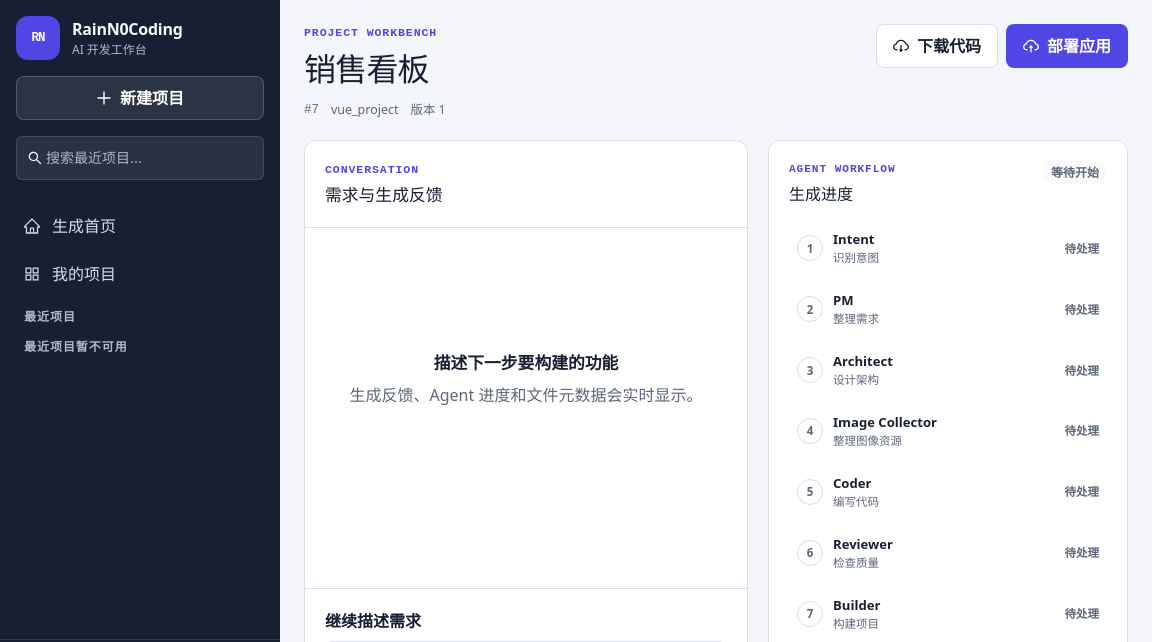
Test case: ChatDetail › shows a JSON business error instead of downloading an HTTP 200 response
Click the button "下载代码". click: (937, 46)
box: [876,24,998,68]
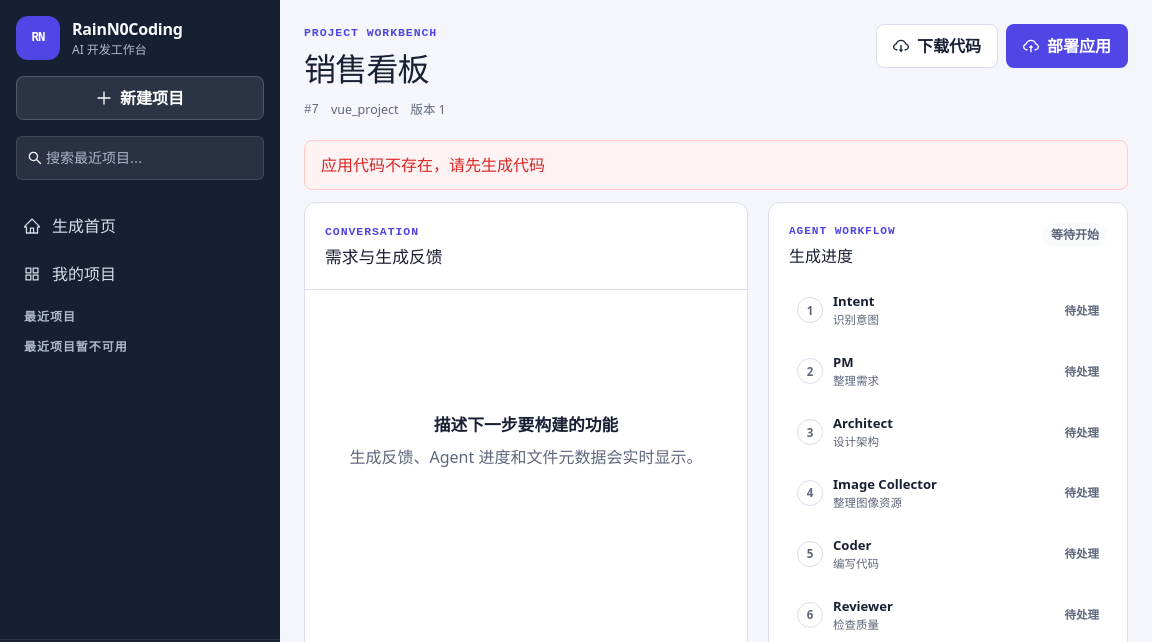
Result: the text "应用代码不存在，请先生成代码" is shown at [304,140,1128,190]
